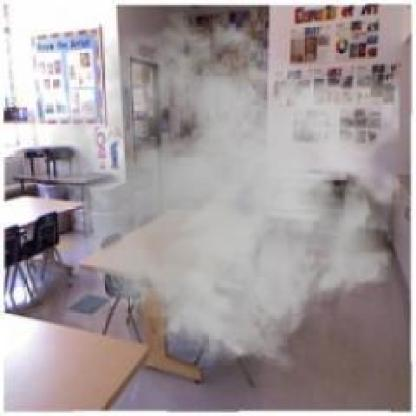Smoke: (48, 8, 400, 373)
